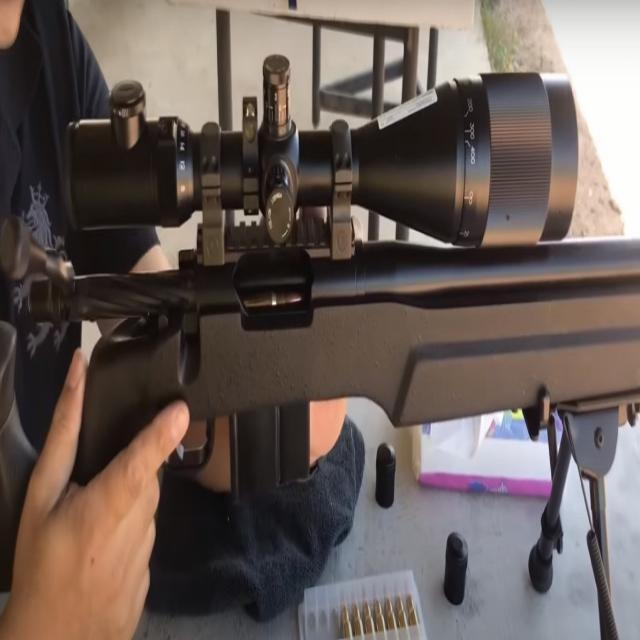rifle: (9, 53, 636, 581)
